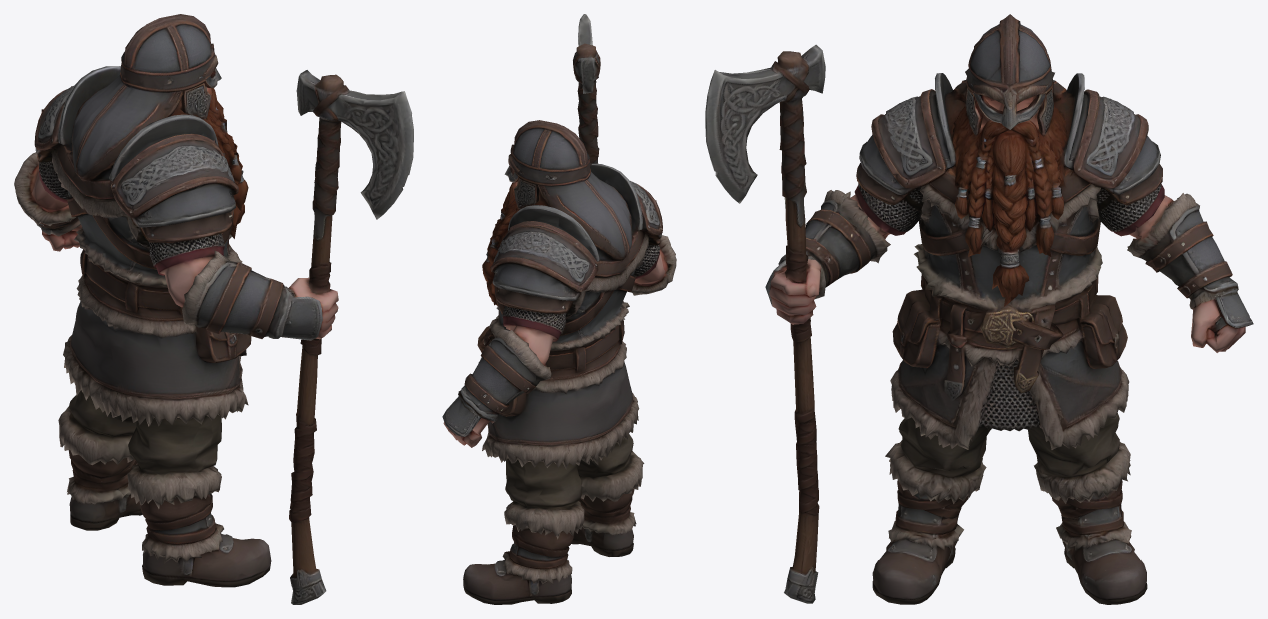
The model's file is h31front-3.glb.
The picture shows the model from 3 angles, left to right: view 1: azimuth 30°, elevation 25°; view 2: azimuth 150°, elevation 25°; view 3: azimuth 270°, elevation 25°; orthographic projection. The views are drawn at different scales.
Parts seen in each view (by area): view 1: tripo_node_082fb15f-dc56-4771-92db-49ebc745a26b; view 2: tripo_node_082fb15f-dc56-4771-92db-49ebc745a26b; view 3: tripo_node_082fb15f-dc56-4771-92db-49ebc745a26b.
Boxes of the visible parts, box(x1,y1,x2,y2) form: tripo_node_082fb15f-dc56-4771-92db-49ebc745a26b: box(14, 14, 413, 604); tripo_node_082fb15f-dc56-4771-92db-49ebc745a26b: box(442, 14, 676, 604); tripo_node_082fb15f-dc56-4771-92db-49ebc745a26b: box(705, 14, 1253, 604).
Size of the model in its own units: 0.3884 by 1 by 0.881.
1 material, 1 textured.
